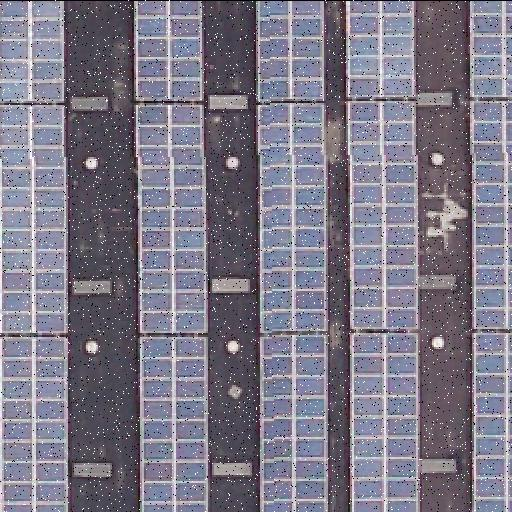solar-panel: (257, 101, 327, 331), (137, 101, 207, 331), (345, 102, 415, 330), (0, 105, 68, 335), (350, 332, 418, 512), (258, 336, 326, 512), (140, 336, 208, 512), (2, 336, 70, 512), (472, 100, 512, 328), (472, 332, 512, 512), (255, 1, 321, 103), (345, 0, 415, 96), (135, 0, 201, 100), (0, 1, 64, 103), (472, 0, 512, 96)
